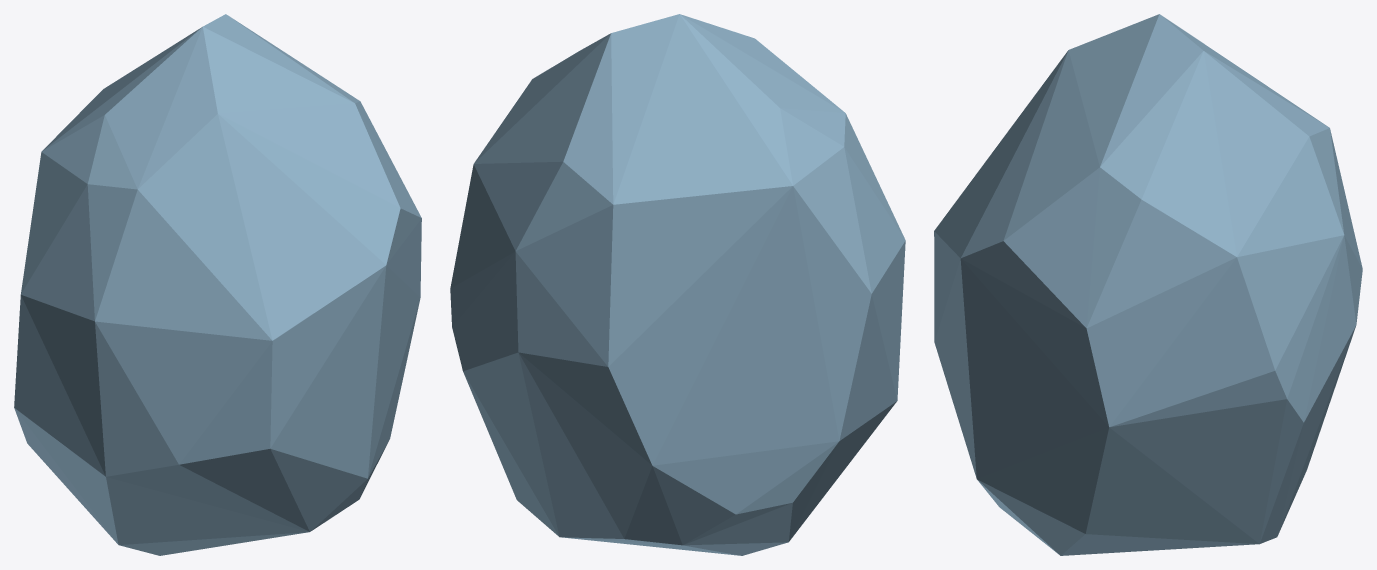
File: food_produce_lemon_a09.glb
3 renders of one model, left to right at view 1: azimuth 30°, elevation 25°; view 2: azimuth 150°, elevation 25°; view 3: azimuth 270°, elevation 25°, orthographic. The views are drawn at different scales.
Visible parts, largest first — view 1: geometry_0; view 2: geometry_0; view 3: geometry_0.
Boxes of the visible parts, x1,y1,x2,y2 form: geometry_0: (14,14,421,555); geometry_0: (450,14,905,555); geometry_0: (934,14,1362,555).
Bounding box in the file's own units: 0.3451 × 0.4475 × 0.3256.
